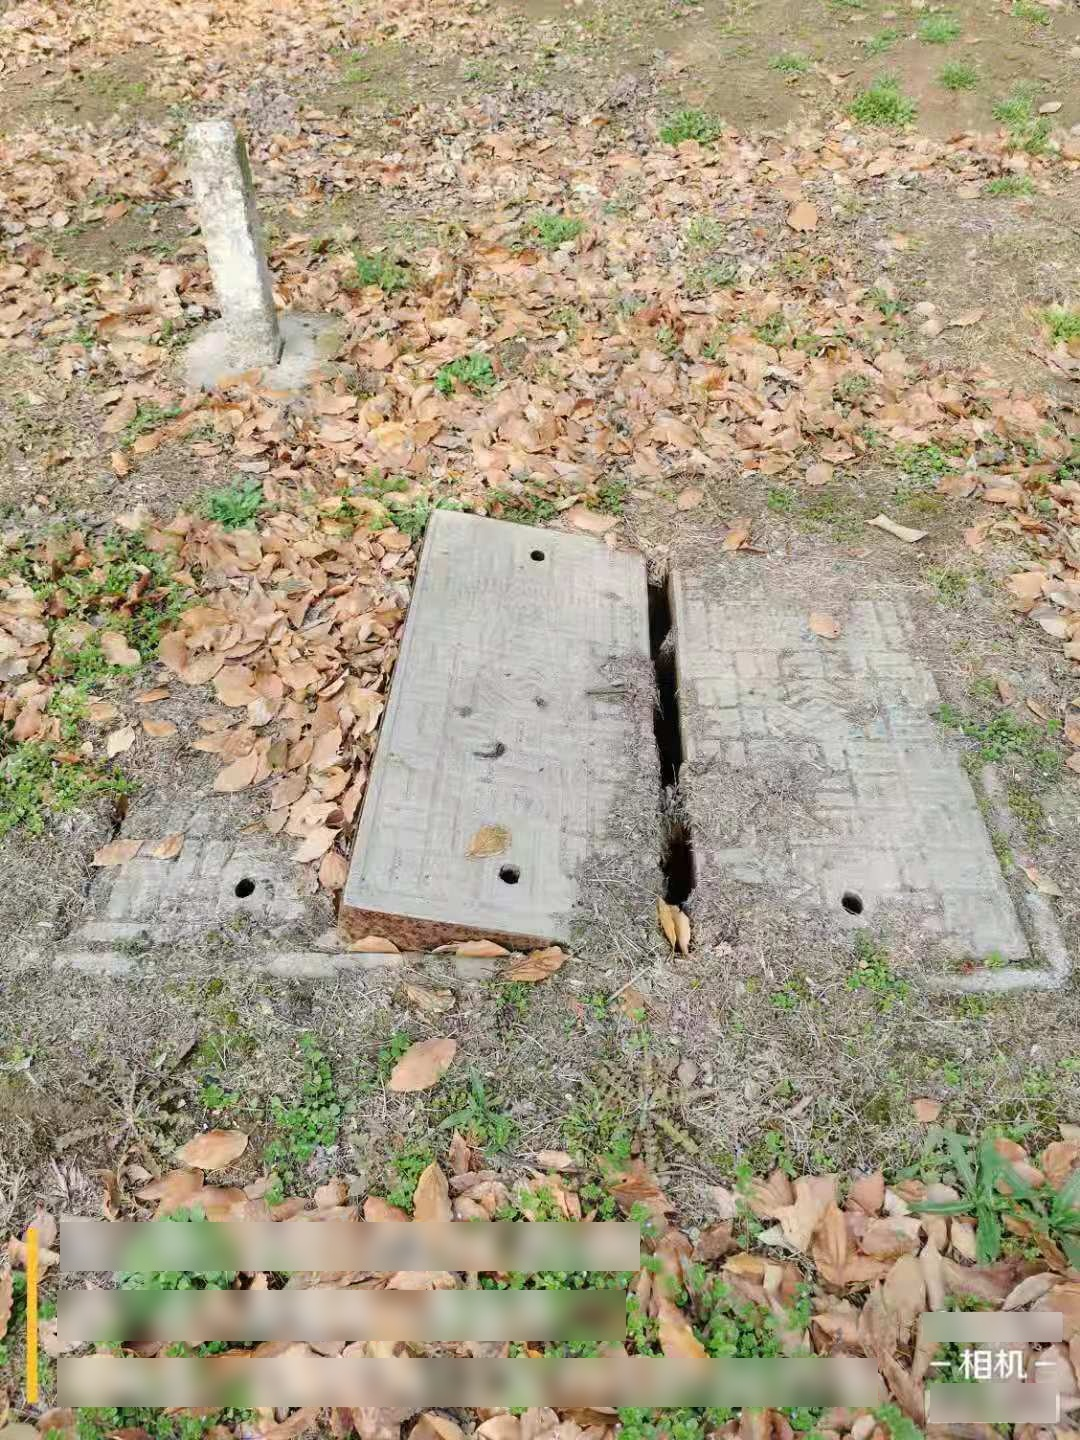uncovered: (20, 507, 1063, 993)
